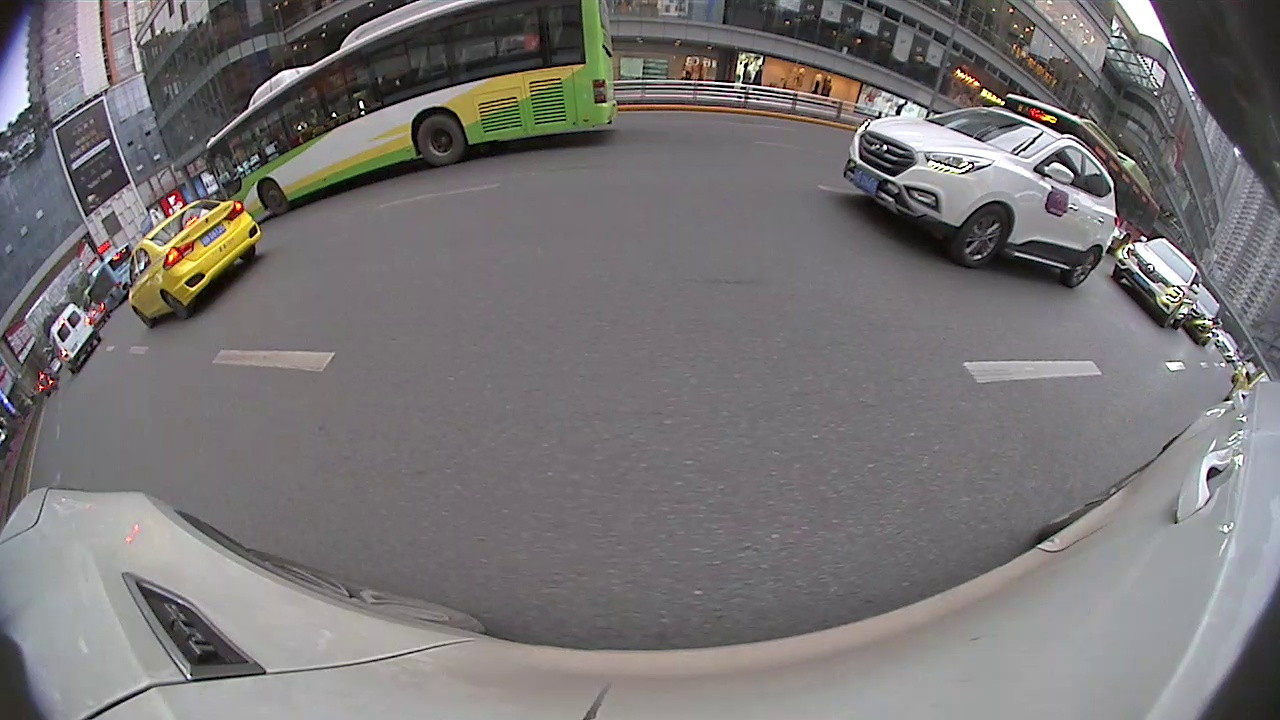bus: (204, 2, 621, 229)
car: (843, 104, 1117, 296), (120, 200, 267, 329), (1107, 236, 1207, 338), (48, 302, 99, 378)
front: (958, 203, 1009, 268), (258, 182, 290, 216)
rear: (414, 113, 468, 167), (1064, 246, 1099, 289), (162, 289, 193, 322)
